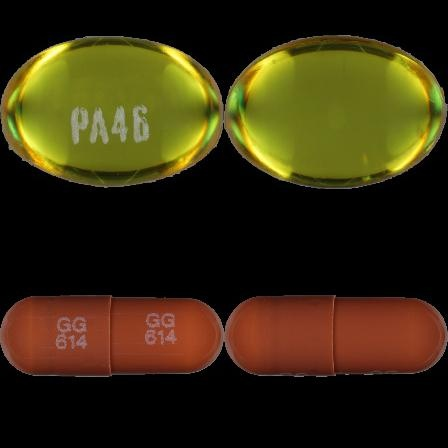0615-1349: (0, 0, 224, 224)
